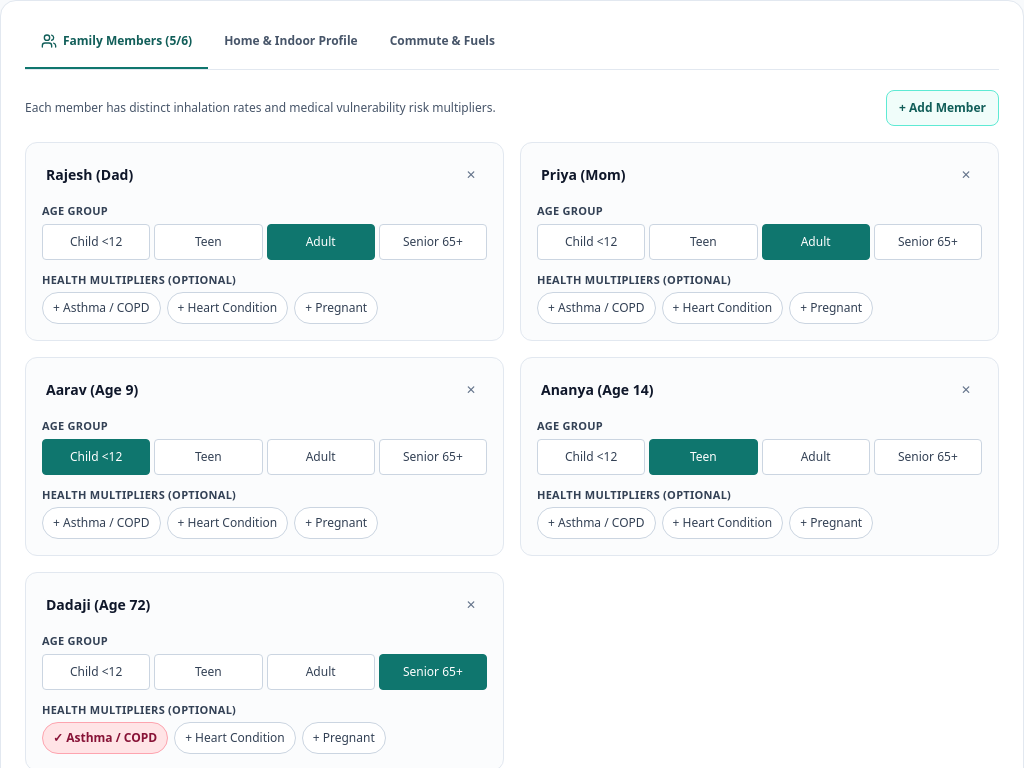
Test case: Component Flow & Integration Tests › FamilyBuilder Interactive Tabs › switches between Members, Home, and Commute tabs and adds members
Note: Home tab
Click the tab "Home & Indoor Profile".
click(291, 47)  # box [208,25,374,69]
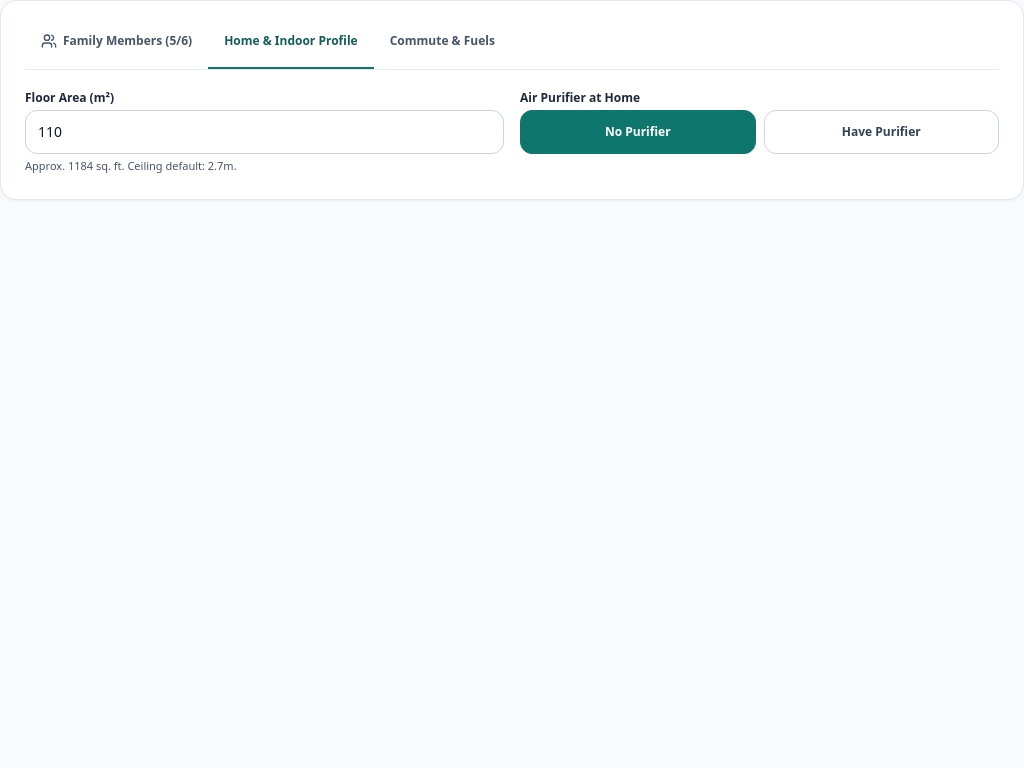
Expected: the tab "Home & Indoor Profile" is selected, [208,25,374,69]
Note: Commute tab
Click the tab "Commute & Fuels".
click(442, 47)  # box [374,25,511,69]
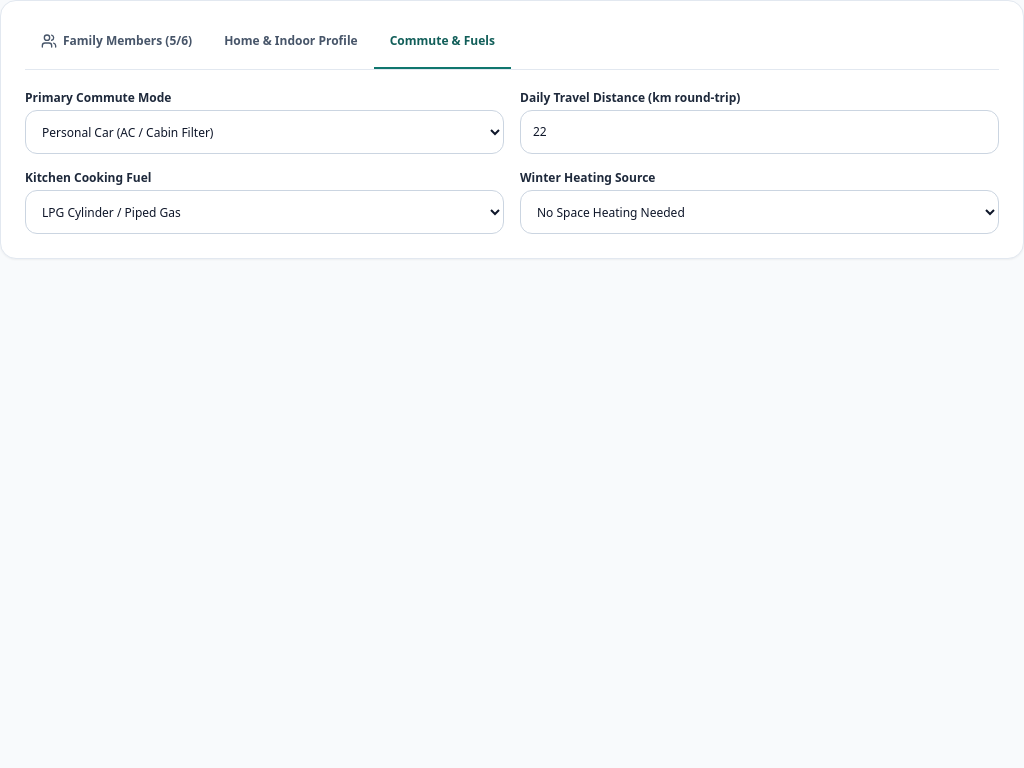
Expected: the tab "Commute & Fuels" is selected, [374,25,511,69]
Note: Members tab
Click the tab "Family Members (5/6)".
click(117, 47)  # box [25,25,208,69]
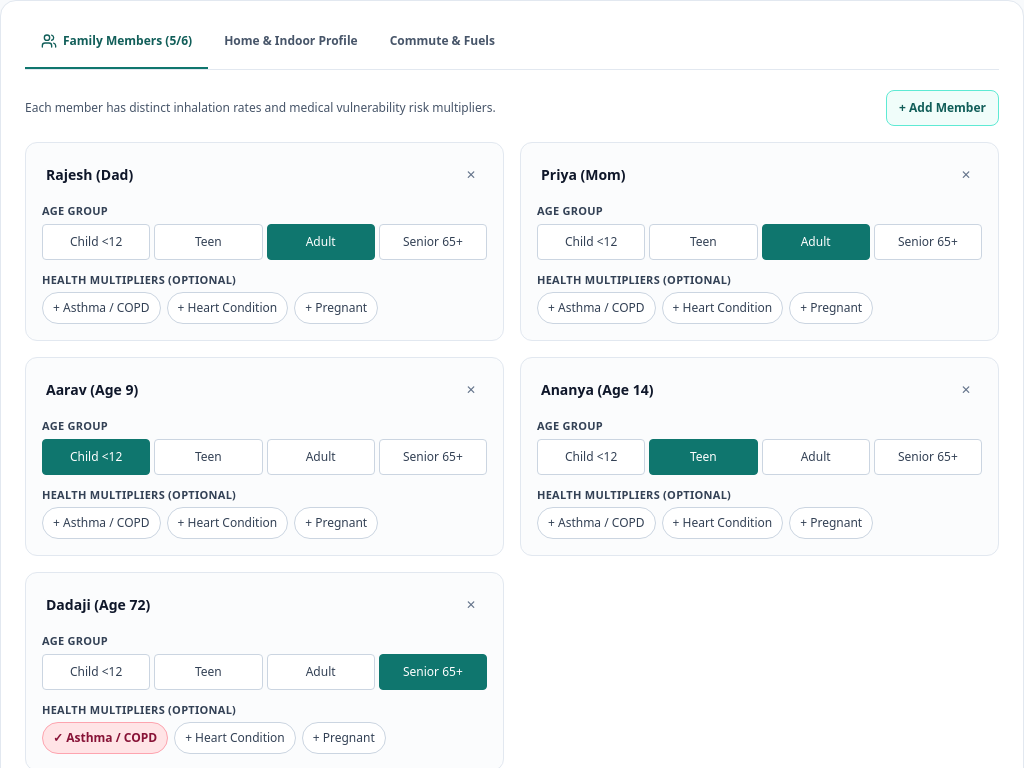
Expected: the tab "Family Members (5/6)" is selected, [25,25,208,69]
